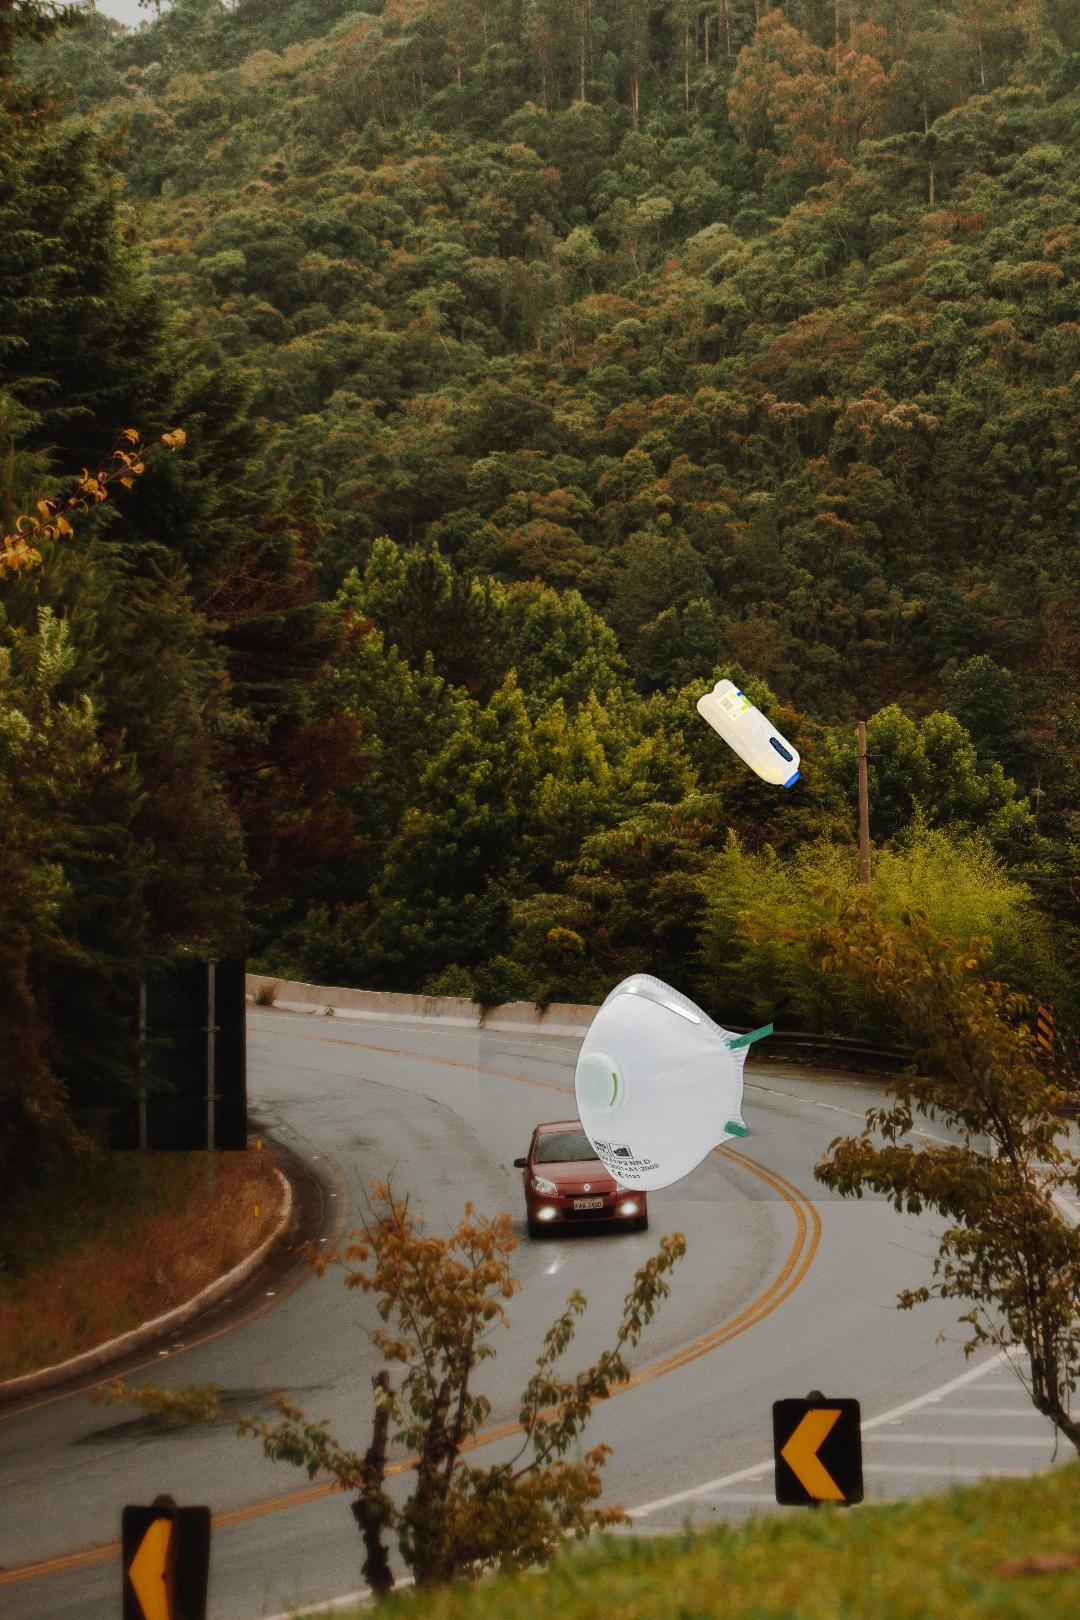glass: (479, 817, 991, 1201), (1012, 121, 1080, 601)
plastic-bottles: (691, 673, 806, 794)
trash: (573, 970, 773, 1195)
